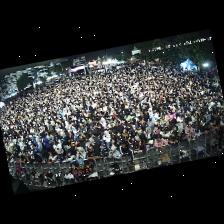person: (118, 142, 133, 166), (53, 140, 64, 161), (132, 137, 145, 153), (153, 135, 167, 148), (107, 146, 120, 159), (87, 145, 99, 159), (60, 133, 69, 151), (32, 143, 42, 159), (87, 139, 99, 152), (64, 148, 76, 161), (165, 132, 177, 144), (68, 131, 76, 148), (47, 151, 56, 165), (74, 139, 85, 150), (87, 124, 97, 136), (76, 147, 85, 160), (102, 131, 110, 145), (109, 138, 118, 150), (116, 132, 125, 144), (97, 124, 104, 139), (126, 132, 134, 145), (161, 121, 171, 131), (200, 123, 209, 134), (101, 145, 108, 159), (192, 126, 199, 140), (46, 132, 53, 146), (90, 133, 98, 145), (33, 152, 41, 164), (184, 122, 192, 134), (146, 118, 153, 131), (144, 127, 151, 140), (168, 109, 175, 121), (208, 122, 215, 134), (99, 140, 106, 152), (152, 130, 161, 139), (161, 128, 170, 137), (176, 120, 182, 133), (35, 138, 41, 151), (159, 115, 166, 126), (99, 118, 106, 129), (191, 118, 199, 127), (145, 140, 153, 149), (122, 128, 128, 140), (134, 130, 140, 141), (18, 139, 23, 150), (13, 154, 19, 163), (171, 126, 177, 132)
